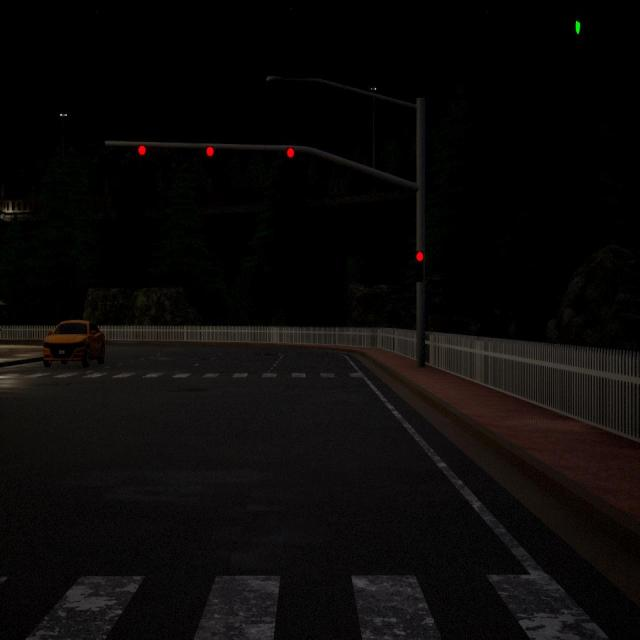Vehicle: (43, 321, 105, 366)
traffic_light: (414, 252, 424, 281), (286, 147, 295, 159), (206, 146, 214, 158), (138, 145, 146, 156)
